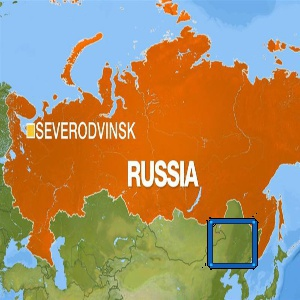square: (206, 217, 258, 271)
